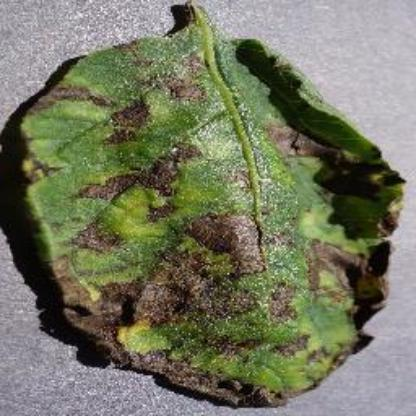Early-Blight: (15, 1, 407, 411)
